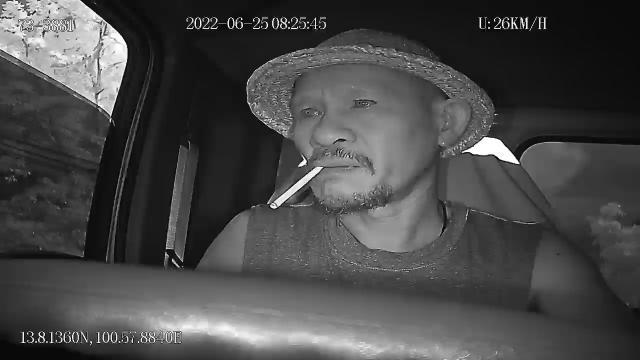SafeDriving: (345, 88, 384, 114), (295, 100, 327, 122)
Smoking: (270, 167, 322, 213)
